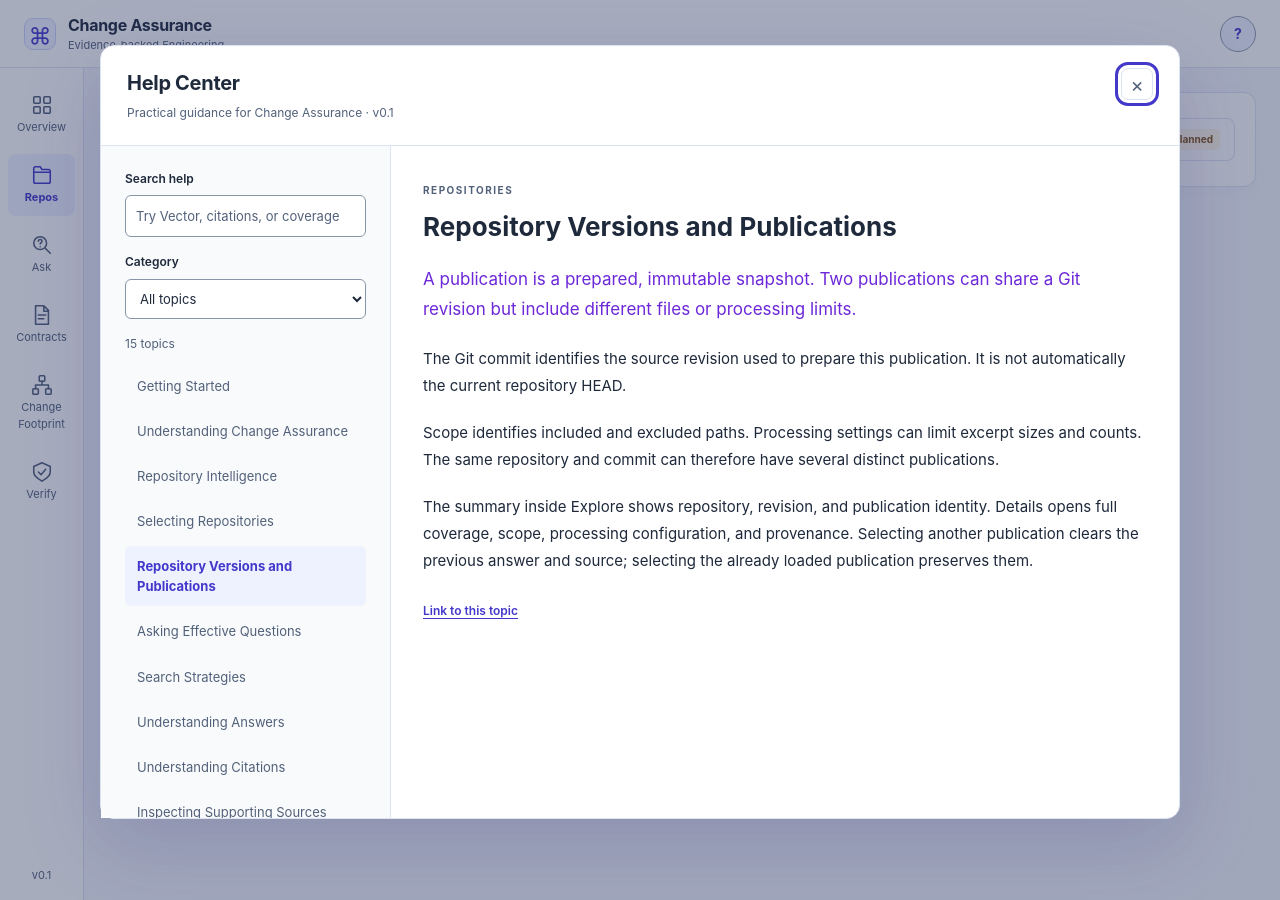
supports direct topic URLs, category navigation, and empty search results
Expected: the heading "Repository Versions and Publications" is shown, [423,211,897,242]
Select "Reference" in the dropdown labelled "Category" at (246, 299), box [125,279,366,319]
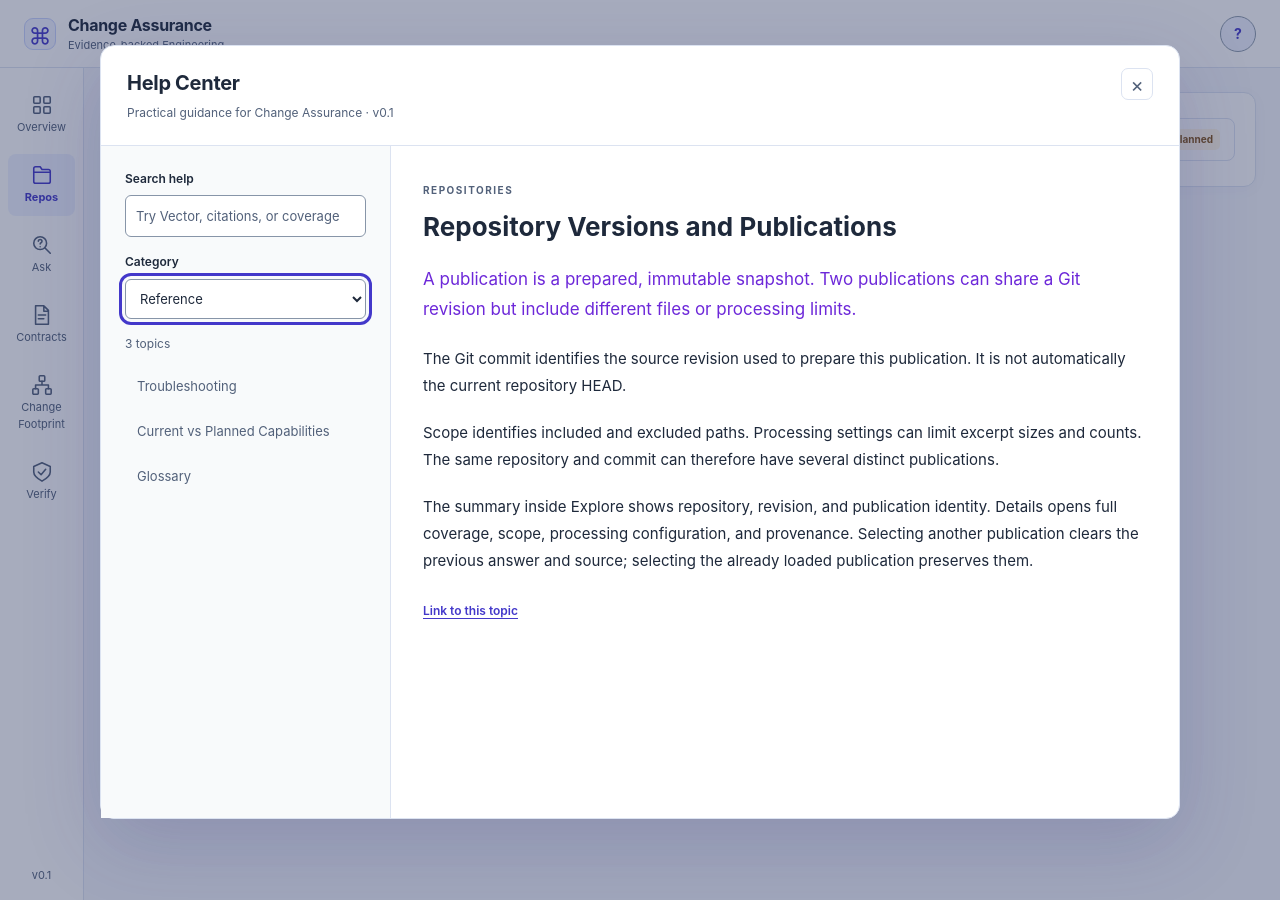
Result: the link "Glossary" is shown at [137,468,191,484]
Result: the link "Getting Started" is gone
Type "not-a-topic" into the search field labelled "Search help" at (246, 216), box [125,195,366,237]
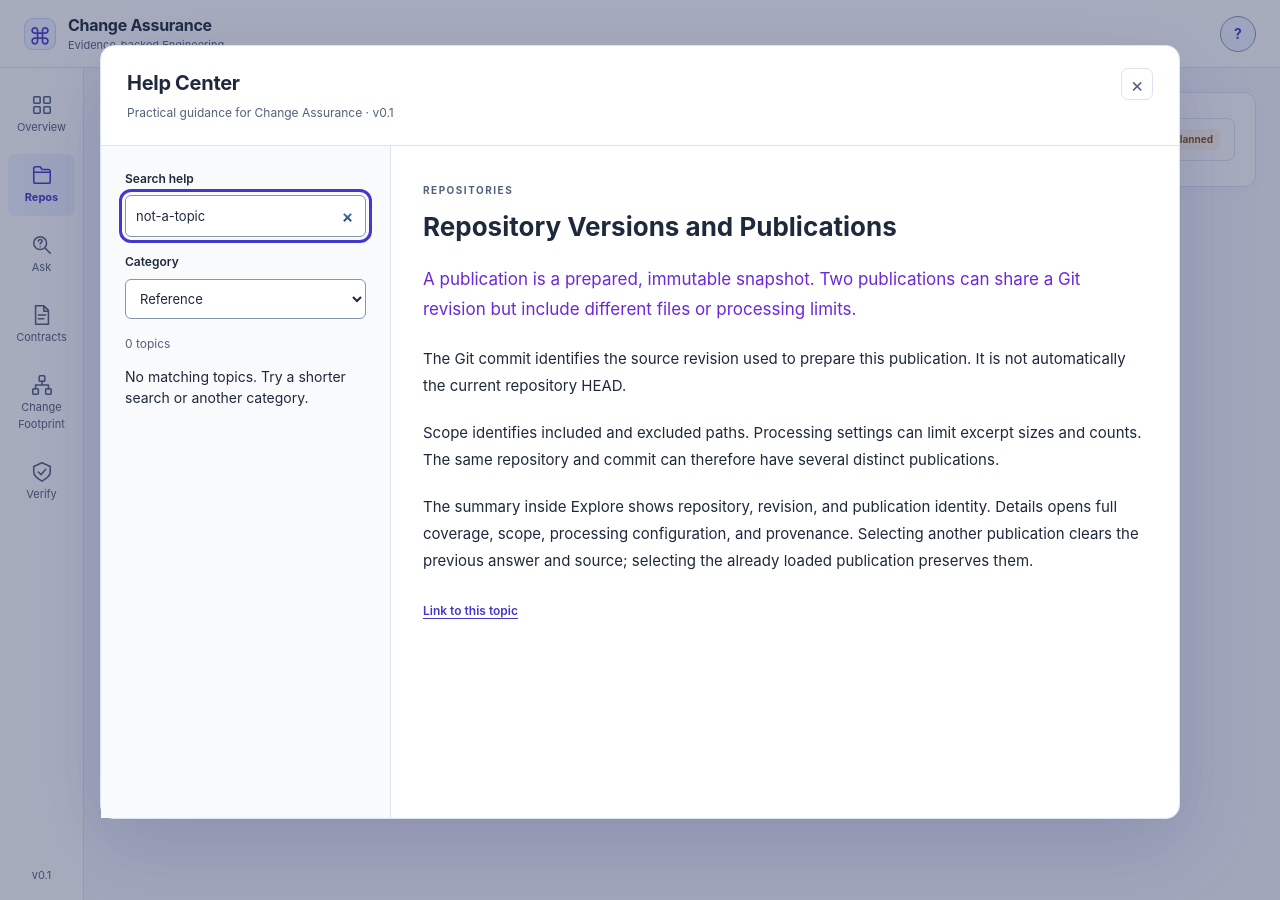
Result: the text "No matching topics" is shown at [125,368,346,406]
